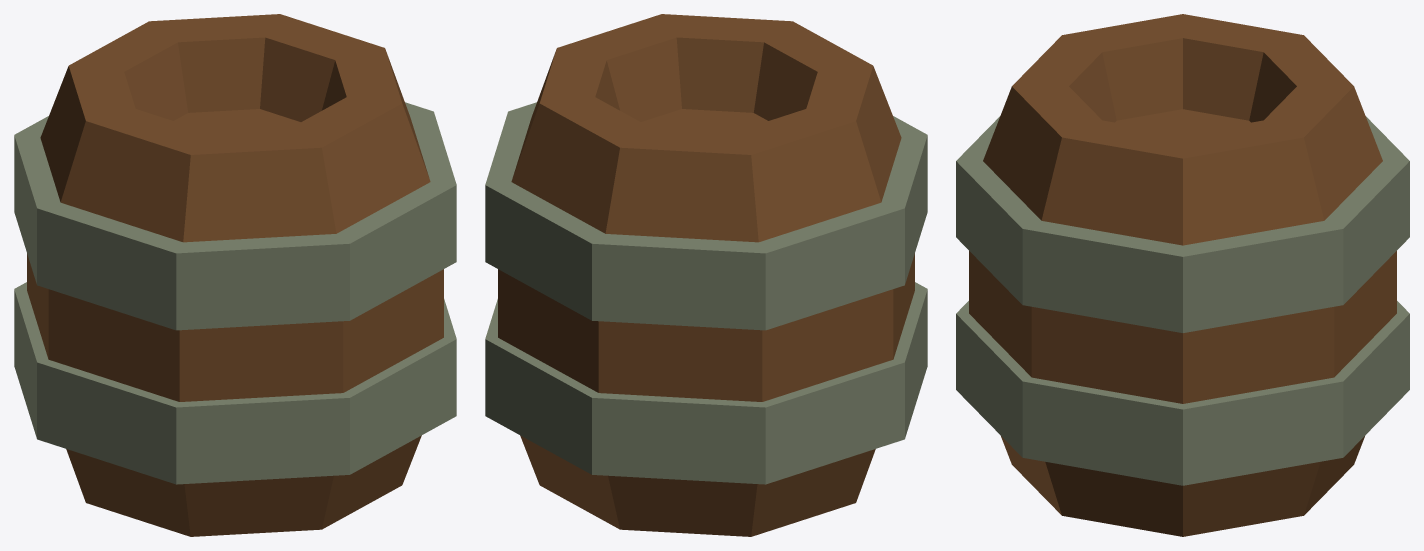
The model's file is kenney_mini-dungeon__barrel__meadow.fbx.
The picture shows the model from 3 angles, left to right: view 1: azimuth 30°, elevation 25°; view 2: azimuth 150°, elevation 25°; view 3: azimuth 270°, elevation 25°; orthographic projection.
Parts seen in each view (by area): view 1: kenney_mini-dungeon__barrel__meadow_wood, kenney_mini-dungeon__barrel__meadow_stone; view 2: kenney_mini-dungeon__barrel__meadow_wood, kenney_mini-dungeon__barrel__meadow_stone; view 3: kenney_mini-dungeon__barrel__meadow_wood, kenney_mini-dungeon__barrel__meadow_stone.
Boxes of the visible parts, x1,y1,x2,y2 form: kenney_mini-dungeon__barrel__meadow_wood: (27,14,443,536); kenney_mini-dungeon__barrel__meadow_stone: (14,102,456,484); kenney_mini-dungeon__barrel__meadow_wood: (498,14,914,536); kenney_mini-dungeon__barrel__meadow_stone: (485,102,927,484); kenney_mini-dungeon__barrel__meadow_wood: (969,14,1396,536); kenney_mini-dungeon__barrel__meadow_stone: (956,116,1409,485).
Size of the model in its own units: 1.85 by 1.7 by 1.85.
2 materials, 2 textured.
